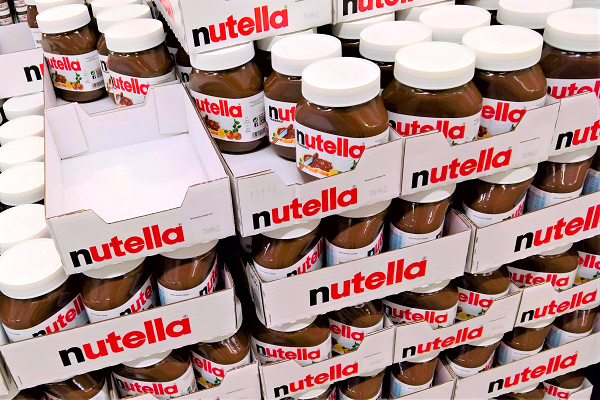nutella: (296, 57, 388, 184), (386, 41, 482, 157), (463, 25, 547, 137), (1, 239, 86, 342), (187, 48, 265, 156), (103, 18, 178, 108), (36, 4, 103, 103), (83, 259, 158, 330), (463, 161, 538, 229), (252, 216, 322, 285), (324, 196, 391, 265), (112, 348, 199, 400), (253, 314, 332, 371), (159, 238, 220, 305), (384, 278, 459, 332), (509, 242, 580, 296), (191, 329, 252, 390), (459, 263, 509, 328), (331, 299, 385, 357)
